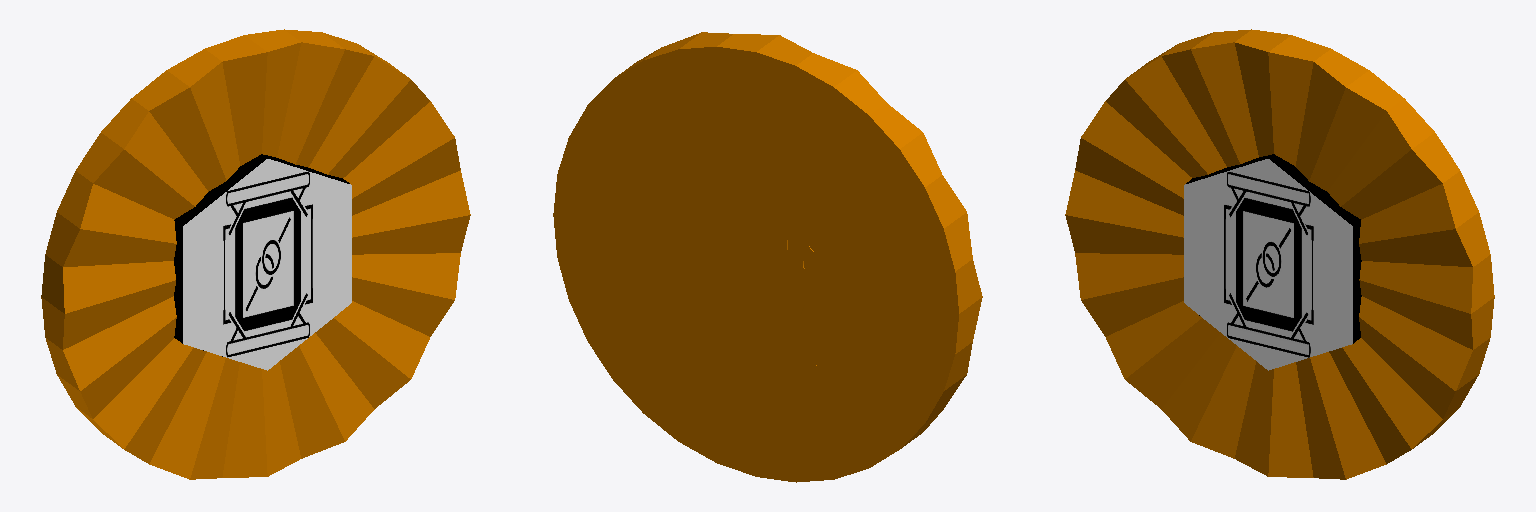
3 renders of one model, left to right at view 1: azimuth 30°, elevation 25°; view 2: azimuth 150°, elevation 25°; view 3: azimuth 330°, elevation 25°, orthographic.
Visible parts, largest first — view 1: Cylinder; view 2: Cylinder; view 3: Cylinder.
Part boxes in pixels (left/top/right/bottom): Cylinder: left=41, top=29, right=470, bottom=479; Cylinder: left=553, top=32, right=982, bottom=482; Cylinder: left=1065, top=29, right=1494, bottom=479.
Bounding box in the file's own units: 10 × 10 × 1.
3 materials, 1 textured.